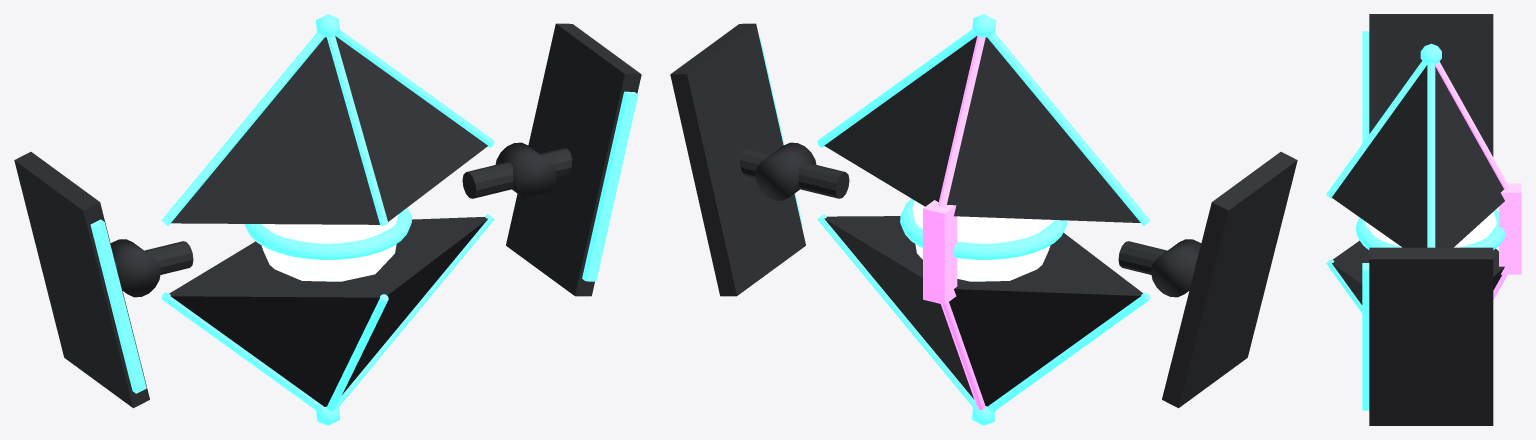
Rendered from guardian.glb.
3 renders of one model, left to right at view 1: azimuth 30°, elevation 25°; view 2: azimuth 150°, elevation 25°; view 3: azimuth 270°, elevation 25°, orthographic. The views are drawn at different scales.
Parts seen in each view (by area): view 1: Shell_Upper, Shell_Lower, Vane_R, Vane_L, Core, Core_Ring, VaneSeam_R, VaneSeam_L, Seam_U_L, VaneHinge_R, VaneHinge_L, VaneArm_R (+6 smaller); view 2: Shell_Upper, Shell_Lower, Vane_R, Vane_L, Core, SystemAccent_Rear, Core_Ring, Seam_U_L, VaneHinge_R, VaneHinge_L, VaneArm_R, Seam_L_L (+5 smaller); view 3: Vane_R, Shell_Upper, Vane_L, SystemAccent_Rear, Seam_U_R, Shell_Lower, VaneSeam_R, Seam_U_Front, Core_Ring, Seam_U_Rear_V, VaneSeam_L, Core (+2 smaller).
Boxes of the visible parts, bbox=[...] form: Shell_Upper: bbox=[171, 36, 487, 224]; Shell_Lower: bbox=[169, 217, 487, 406]; Vane_R: bbox=[506, 23, 641, 296]; Vane_L: bbox=[14, 152, 149, 408]; Core: bbox=[261, 214, 398, 281]; Core_Ring: bbox=[244, 207, 411, 259]; VaneSeam_R: bbox=[582, 91, 638, 281]; VaneSeam_L: bbox=[90, 219, 146, 393]; Seam_U_L: bbox=[161, 33, 324, 225]; VaneHinge_R: bbox=[495, 142, 556, 200]; VaneHinge_L: bbox=[110, 239, 160, 297]; VaneArm_R: bbox=[462, 148, 572, 198]; Shell_Upper: bbox=[824, 36, 1140, 222]; Shell_Lower: bbox=[824, 216, 1142, 406]; Vane_R: bbox=[670, 23, 805, 296]; Vane_L: bbox=[1162, 152, 1297, 408]; Core: bbox=[912, 201, 1054, 281]; SystemAccent_Rear: bbox=[923, 200, 957, 304]; Core_Ring: bbox=[900, 199, 1067, 259]; Seam_U_L: bbox=[987, 33, 1150, 225]; VaneHinge_R: bbox=[755, 142, 816, 200]; VaneHinge_L: bbox=[1151, 239, 1201, 297]; VaneArm_R: bbox=[739, 148, 849, 198]; Seam_L_L: bbox=[987, 292, 1150, 412]; Vane_R: bbox=[1369, 247, 1493, 425]; Shell_Upper: bbox=[1332, 65, 1504, 247]; Vane_L: bbox=[1369, 14, 1493, 156]; SystemAccent_Rear: bbox=[1499, 183, 1521, 274]; Seam_U_R: bbox=[1427, 62, 1435, 247]; Shell_Lower: bbox=[1332, 240, 1504, 305]; VaneSeam_R: bbox=[1362, 263, 1369, 410]; Seam_U_Front: bbox=[1326, 61, 1426, 198]; Core_Ring: bbox=[1355, 209, 1505, 249]; Seam_U_Rear_V: bbox=[1435, 62, 1509, 189]; VaneSeam_L: bbox=[1362, 31, 1369, 143]; Core: bbox=[1366, 212, 1496, 247].
Bounding box in the file's own units: 2 × 1.41 × 0.6739.
